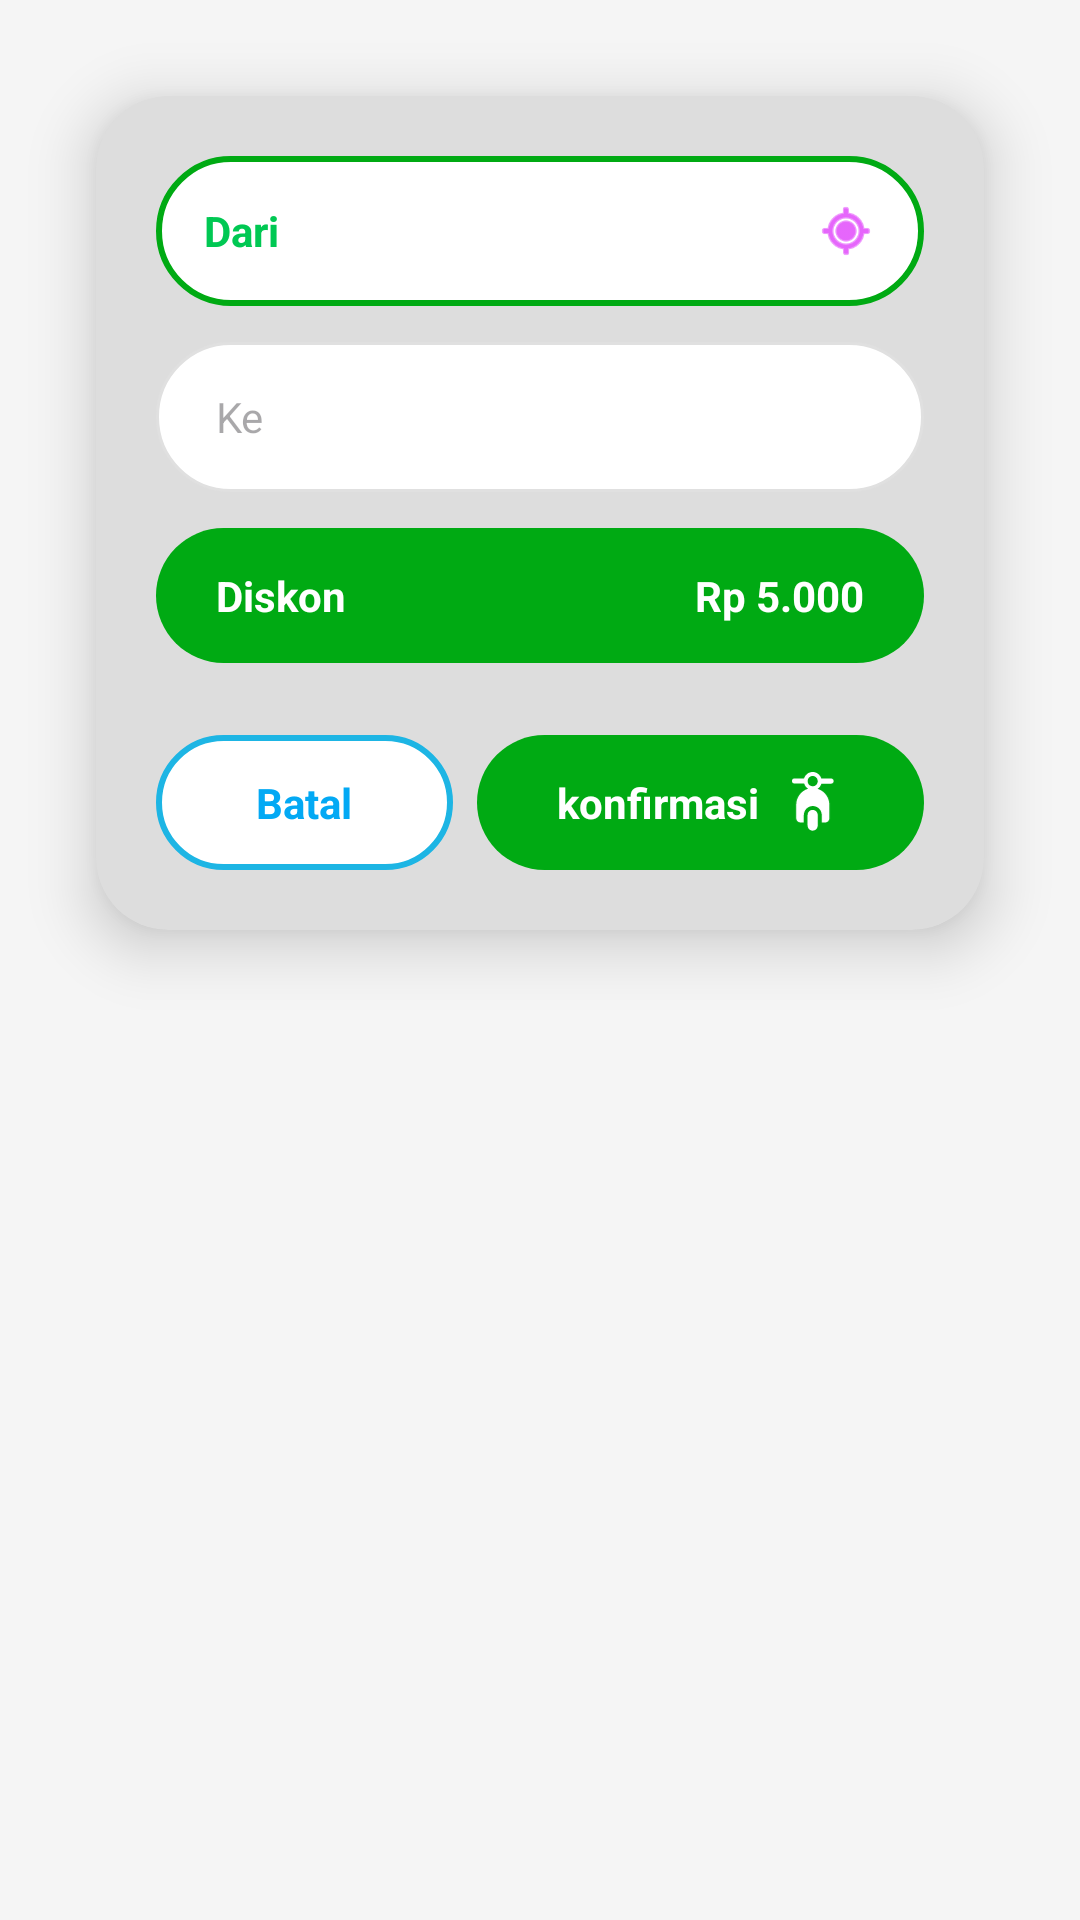

Where to tap for icons on this 1080 x 1920 app screen, as point (x, y):
motor: point (813, 801)
mylocation: point (846, 231)
